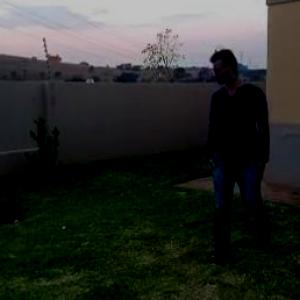follow: (189, 36, 271, 279)
